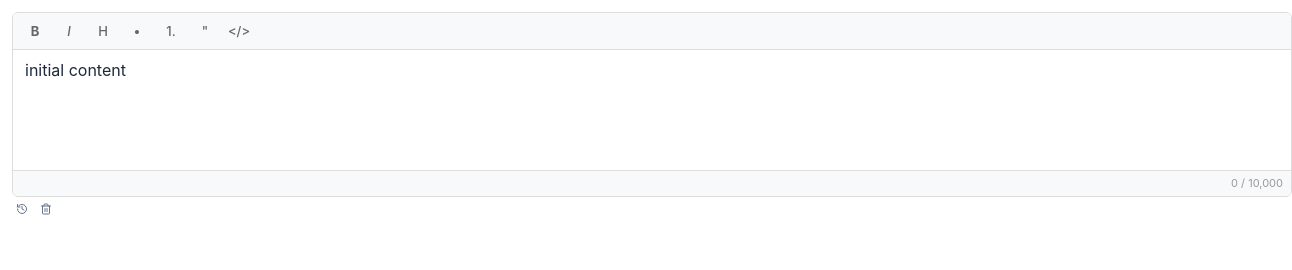
Test: InlineNoteEditor — delete (NY10–NY15) › NY11: clicking delete shows confirmation, does not delete immediately
The width and height of the screenshot is (1292, 270).
Step 1. Click the button with test id "delete-note-btn" → (46, 208), box [36,200,56,216]
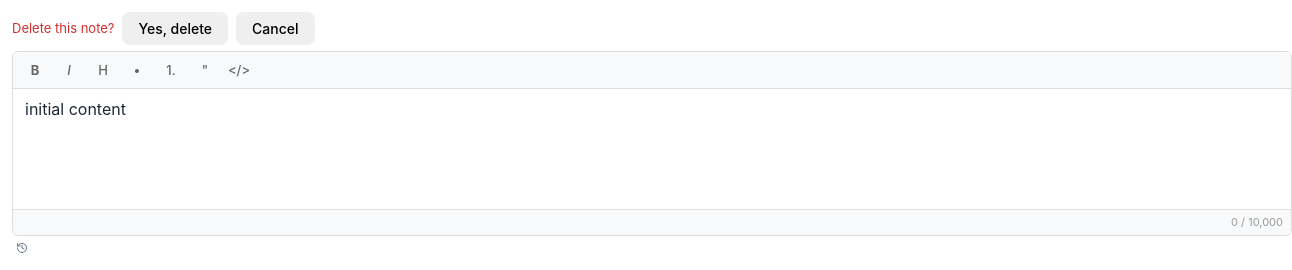
Check: the element with test id "delete-confirm-prompt" is shown, box [12,12,315,45]
